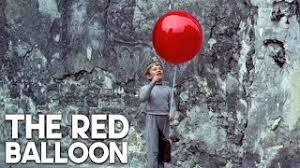red: (152, 10, 203, 66)
